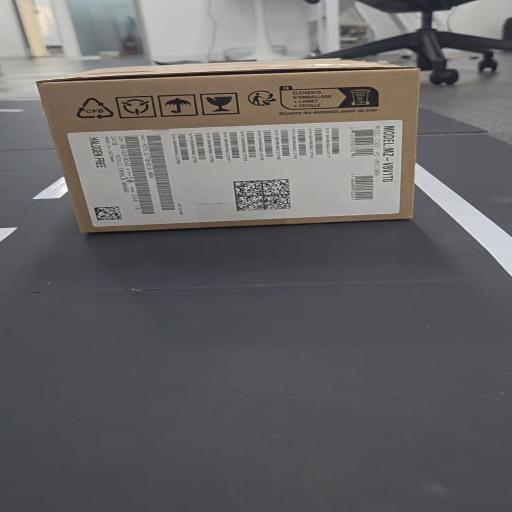Box: (25, 55, 447, 242)
